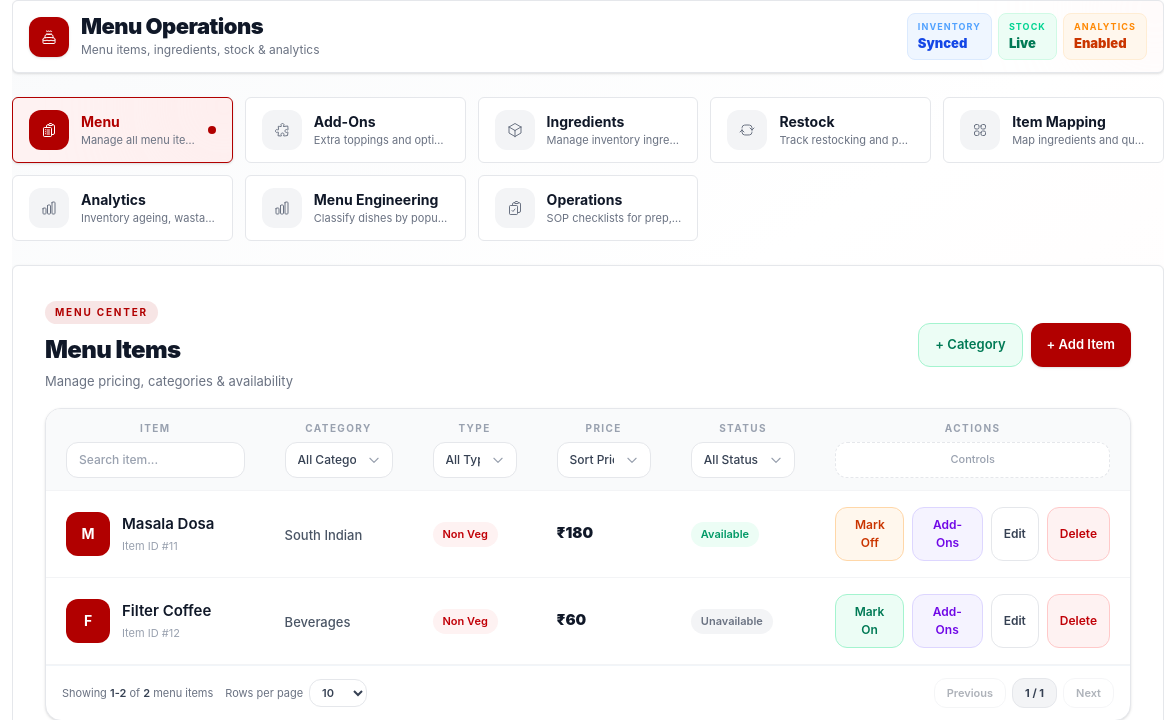
Menu Management — characterisation › renders the engineering tab's own content
Expected: the heading "Menu Operations" is shown, [81,12,263,38]
What coordinates should you click on to do the following:
click the button "Menu Engineering"
I would click on:
 (355, 208)
Its box is [245,175,466,241].
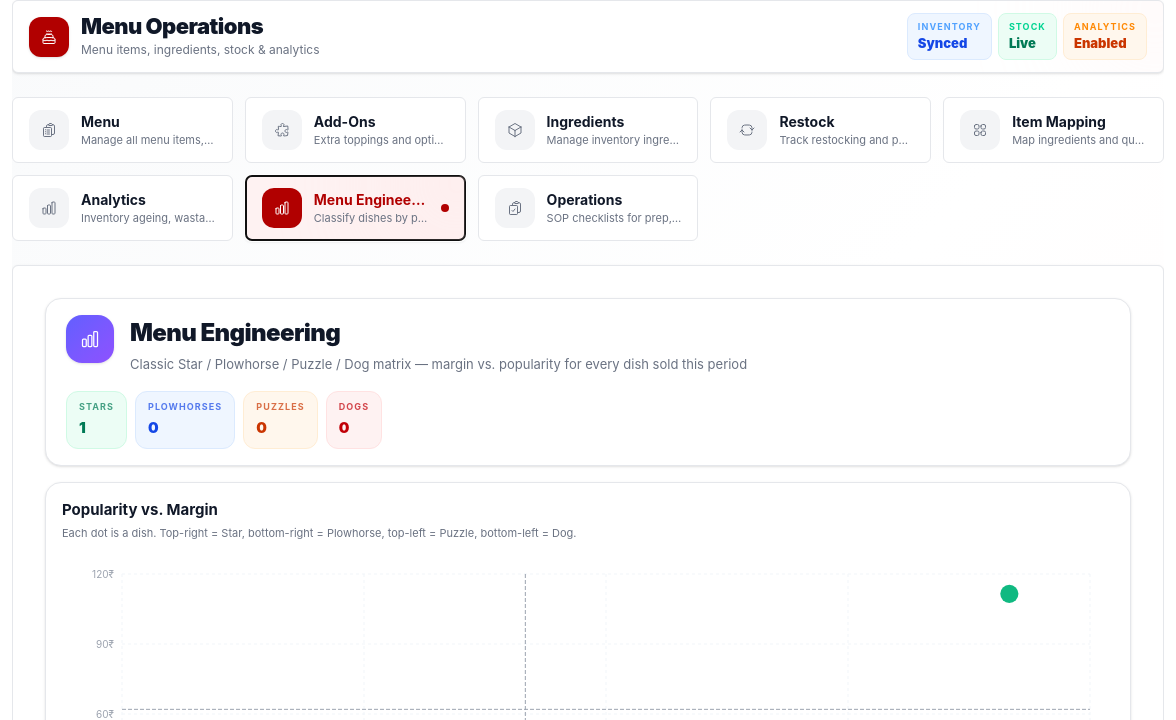
Now the heading "Popularity vs. Margin" is shown, box [62,500,218,518]
